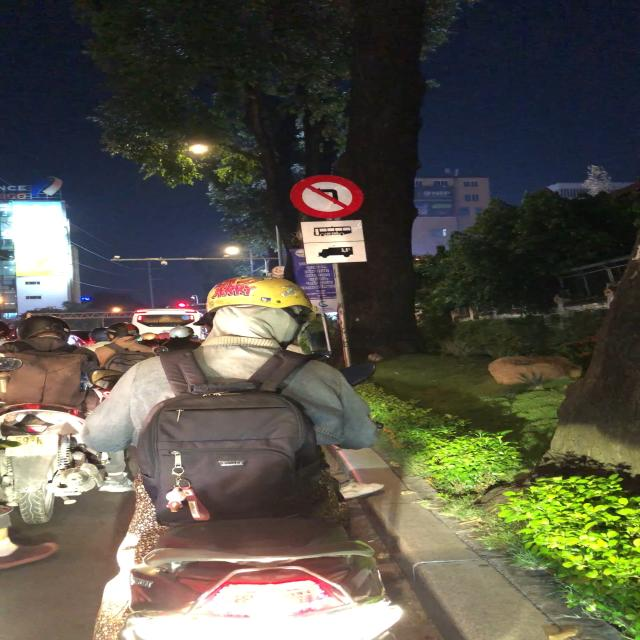Bien bao cam re trai: (290, 173, 370, 221)
